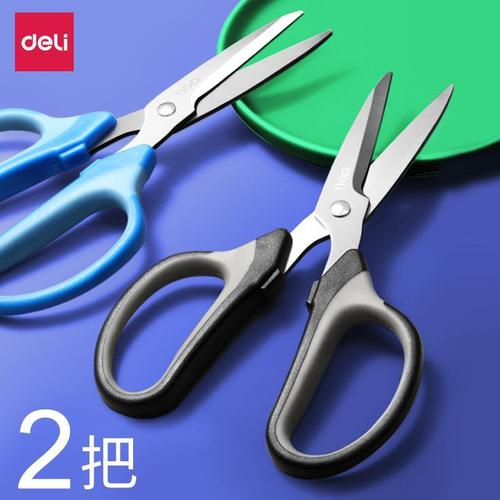scissor: (97, 72, 455, 480)
